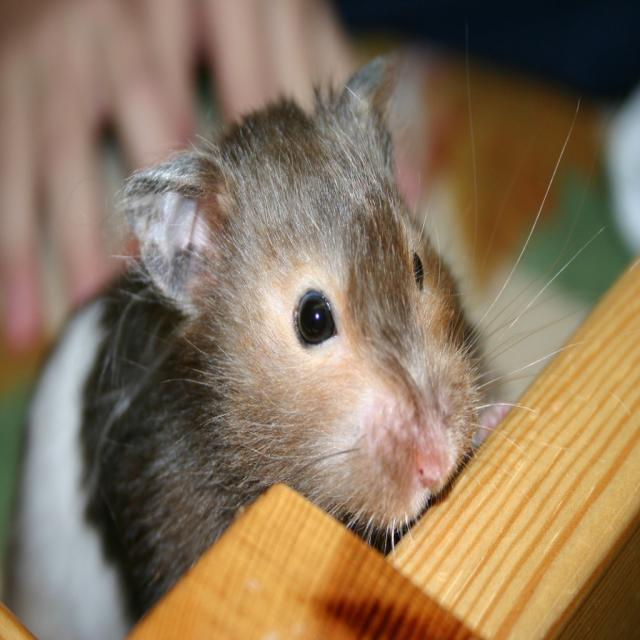rat: (80, 53, 496, 602)
